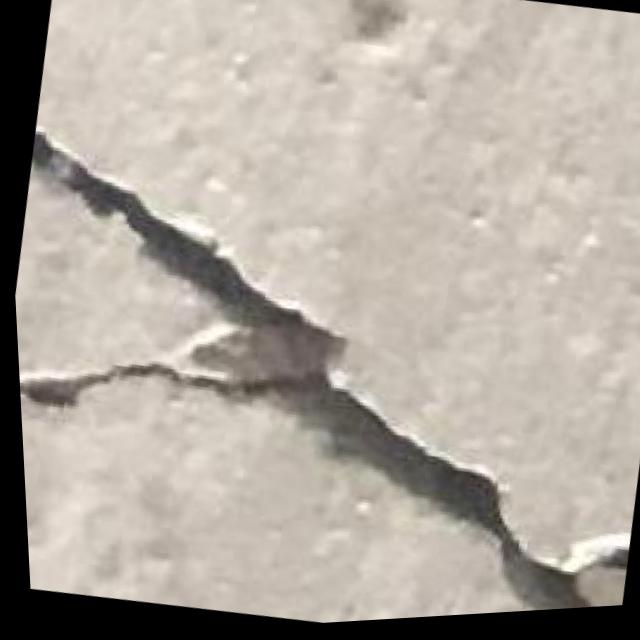Crack: (6, 110, 640, 640)
